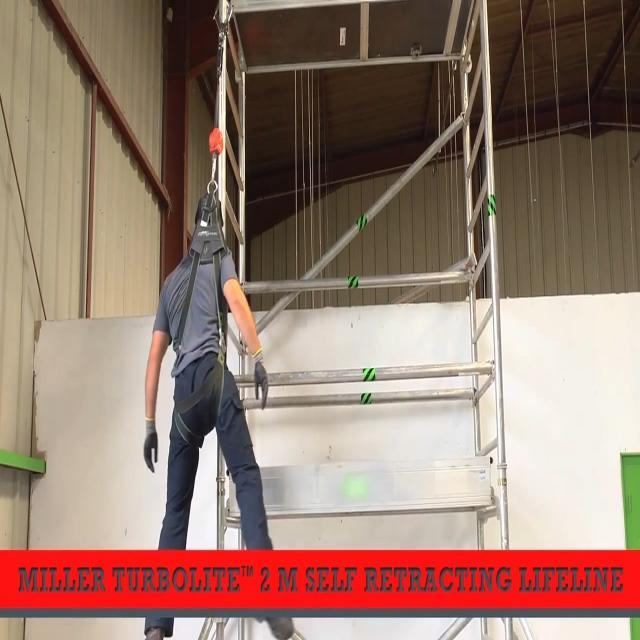belt: (157, 119, 236, 457)
